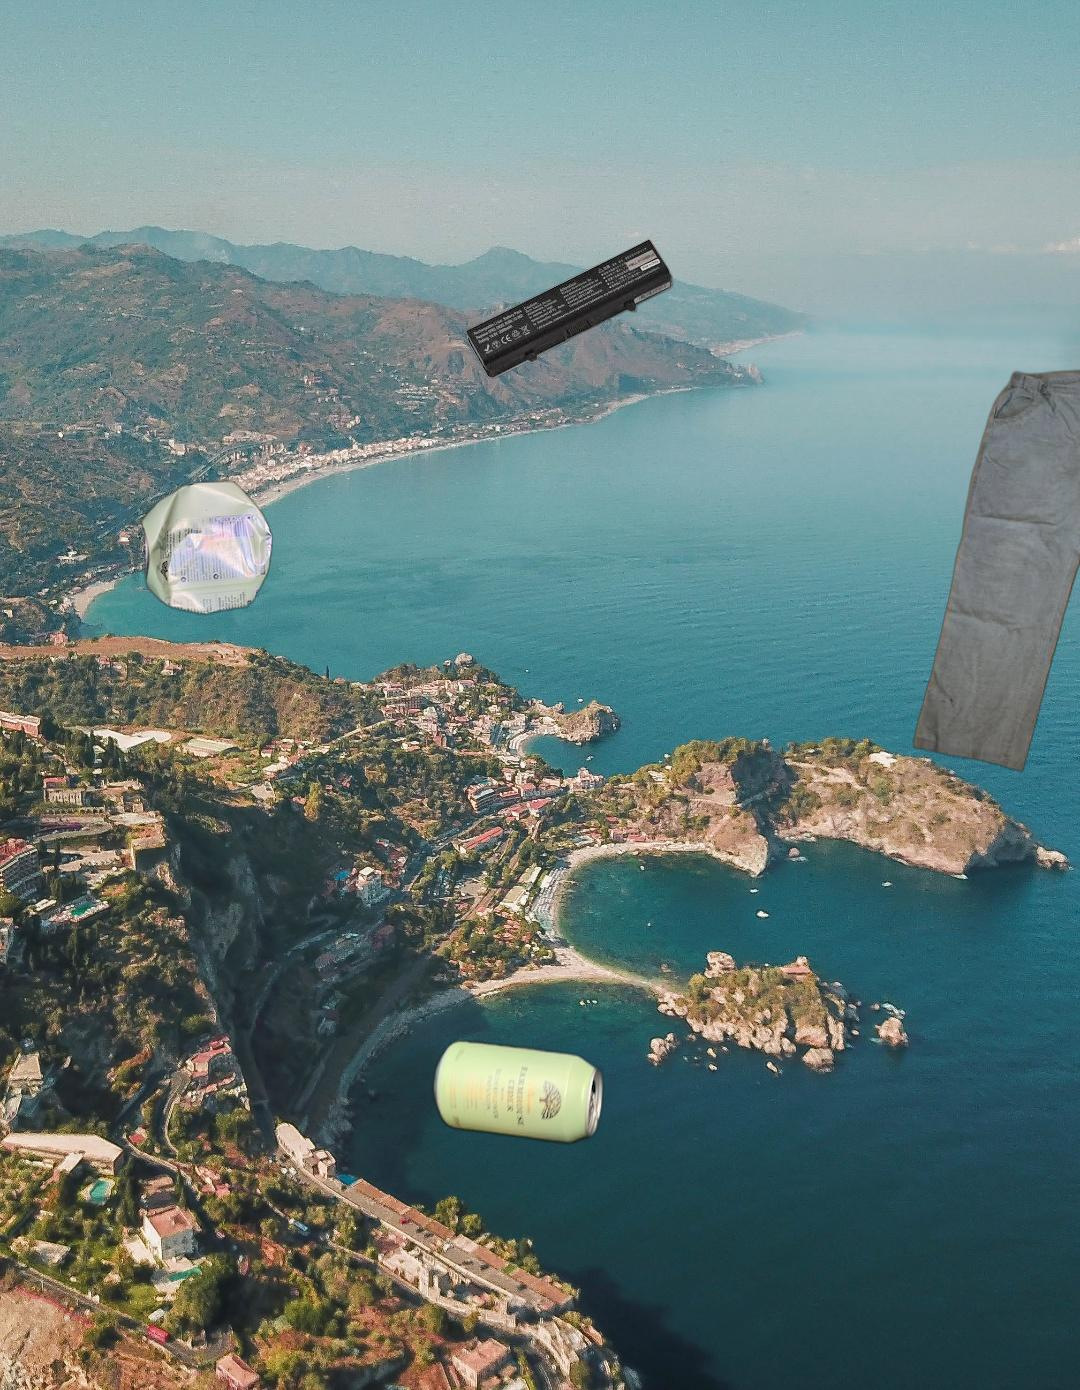battery: (463, 237, 676, 381)
clothes: (911, 357, 1080, 776)
glass: (1077, 315, 1080, 670)
metal-cans: (429, 1004, 893, 1390), (138, 475, 276, 619)
